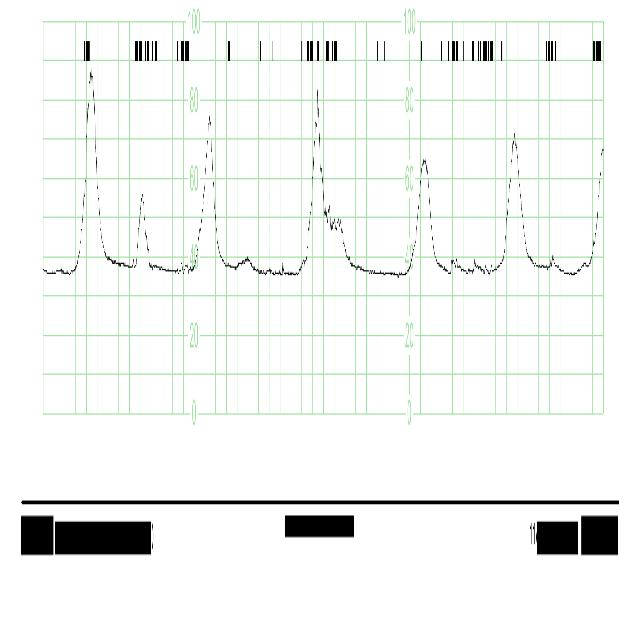contraction: (304, 89, 344, 268), (191, 112, 227, 270), (77, 66, 105, 268), (499, 128, 530, 270), (406, 152, 439, 278), (589, 139, 605, 268), (133, 195, 152, 268)
